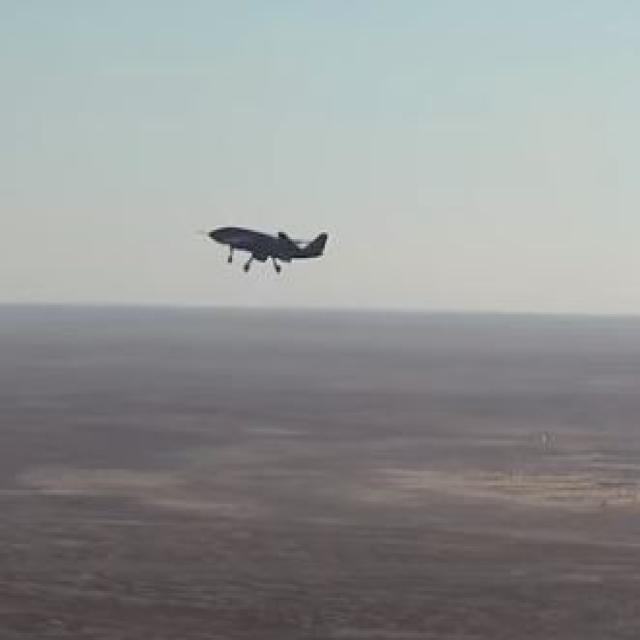iha: (241, 225, 297, 286)
